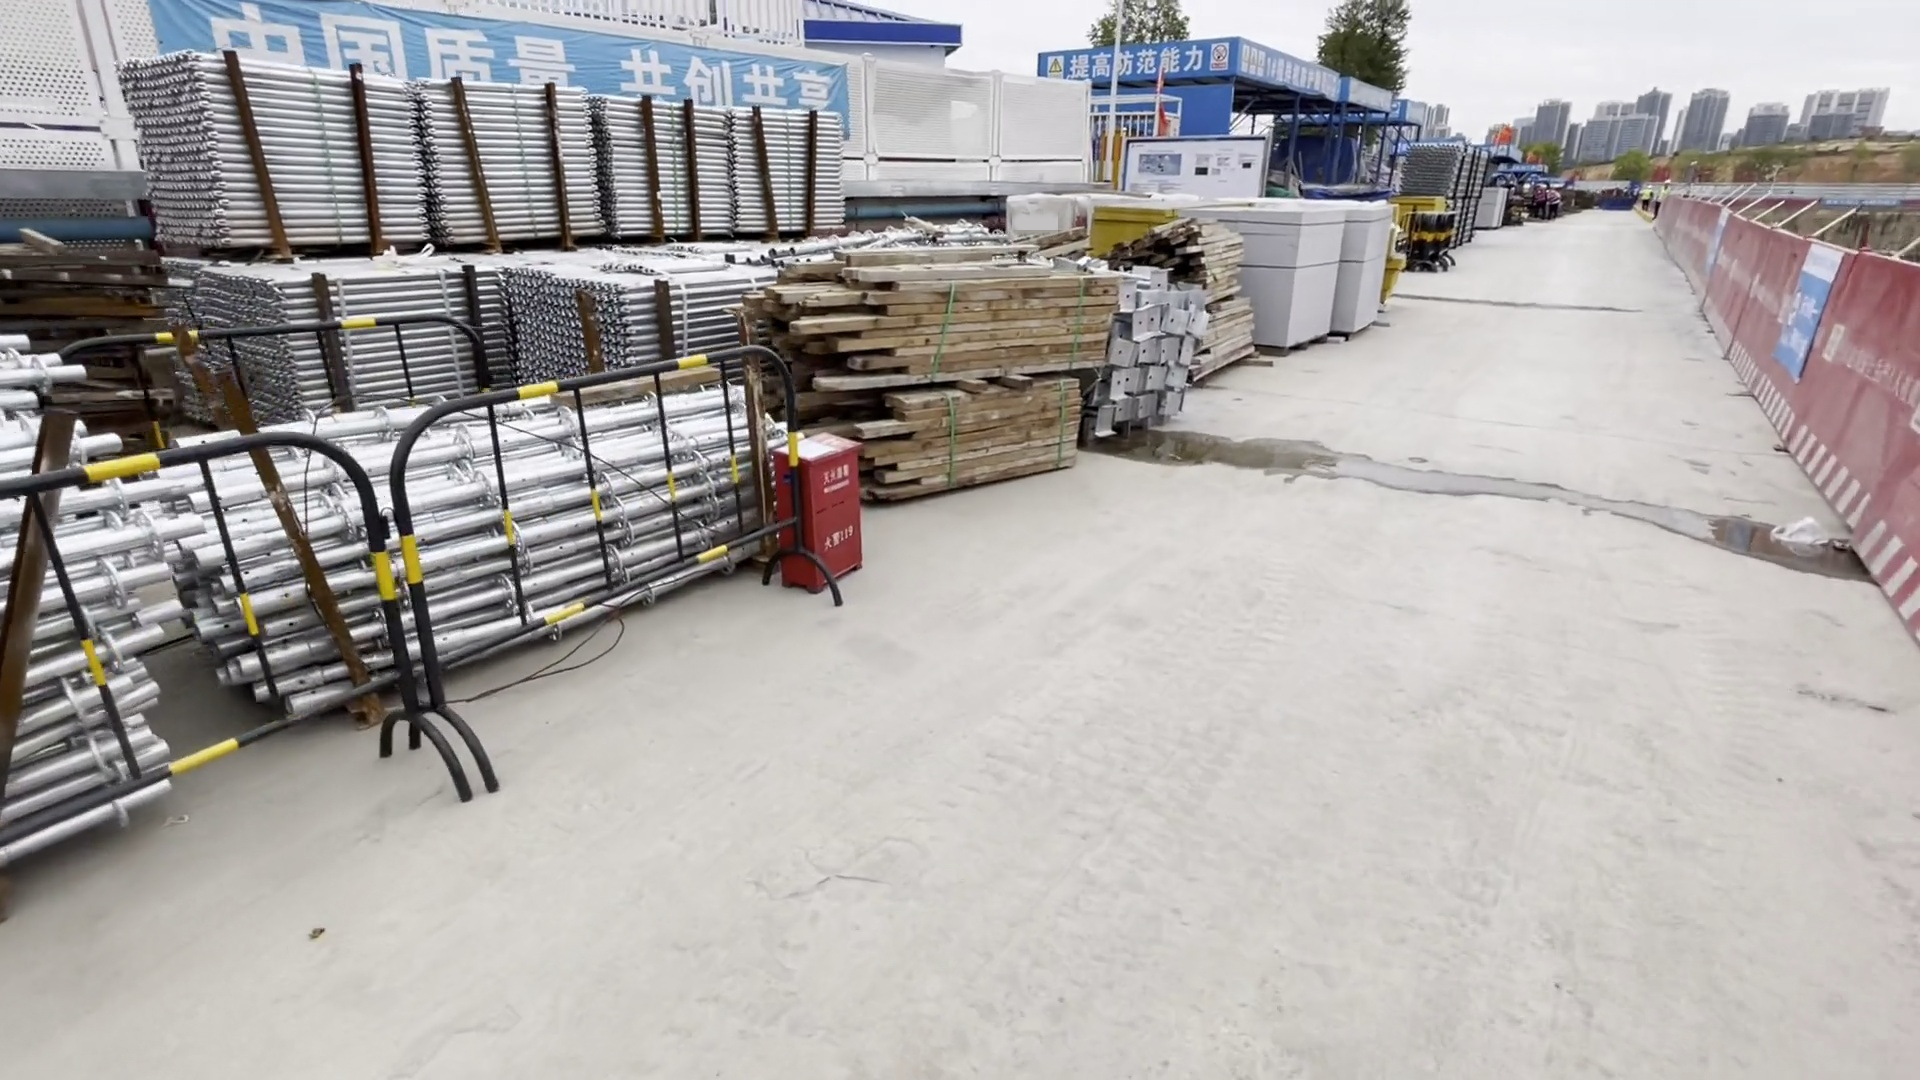brick: (1222, 203, 1407, 346), (1466, 186, 1511, 231)
fence: (1643, 200, 1920, 647)
person: (1655, 179, 1670, 224), (1529, 183, 1544, 217), (1545, 189, 1560, 222), (1642, 187, 1652, 209)
scaffold: (116, 53, 811, 257), (207, 423, 741, 621), (218, 250, 754, 369)
slogan: (163, 5, 867, 136), (1039, 41, 1234, 92)
wood: (818, 271, 1097, 485), (1195, 224, 1255, 382)
